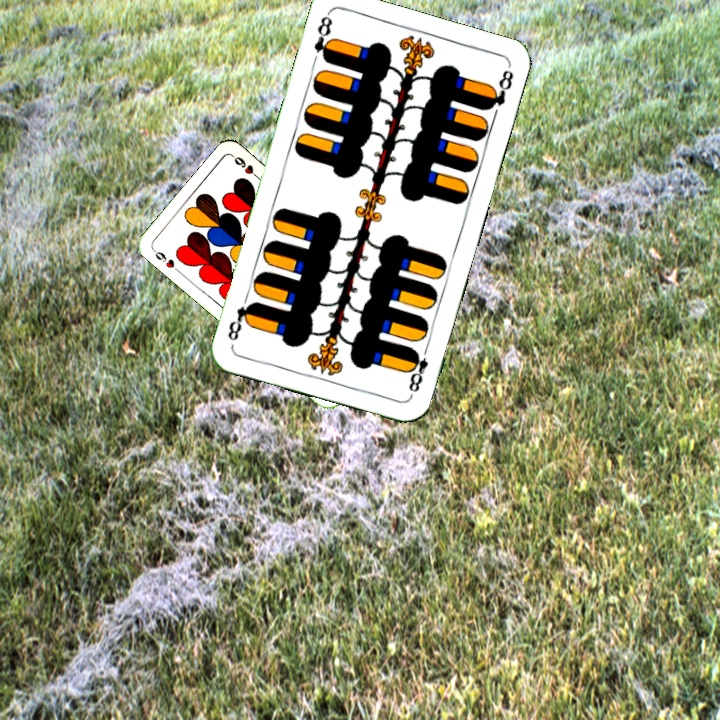E8: (404, 341, 431, 399), (310, 10, 336, 65)
H9: (149, 245, 183, 275)
